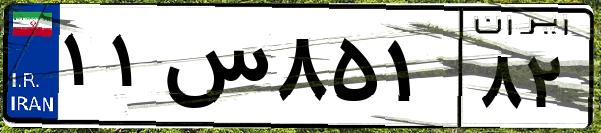1: (385, 28, 445, 110), (57, 26, 110, 100), (110, 28, 158, 98)
2: (525, 38, 570, 115)
5: (330, 28, 385, 110)
8: (270, 28, 330, 110), (475, 38, 525, 113)
س: (158, 20, 270, 120)
